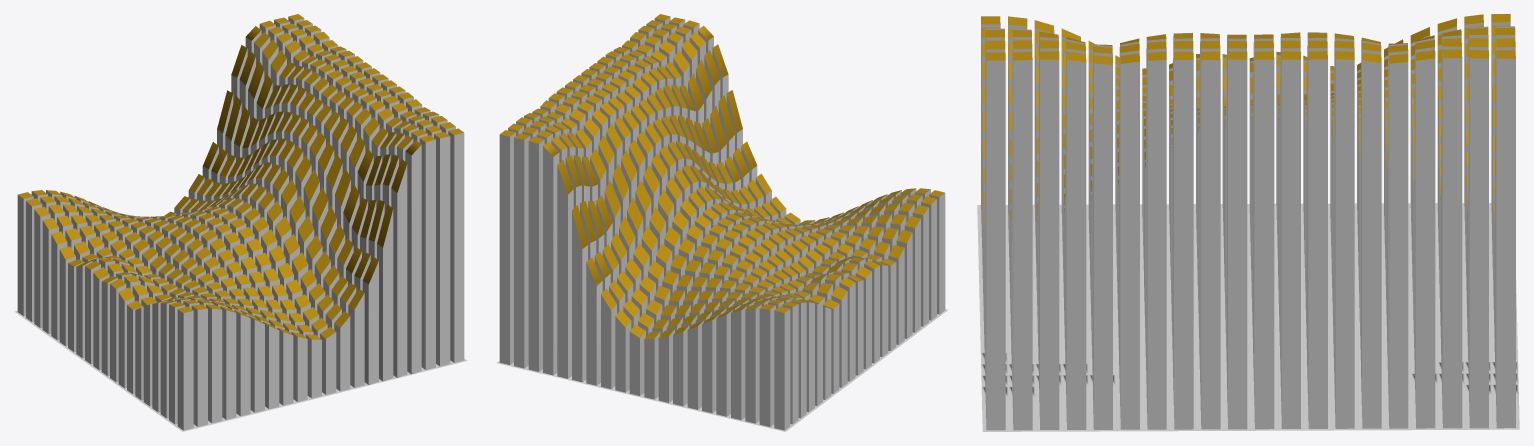
The model's file is HeatSink.fbx.
3 renders of one model, left to right at view 1: azimuth 30°, elevation 25°; view 2: azimuth 150°, elevation 25°; view 3: azimuth 270°, elevation 25°, orthographic. The views are drawn at different scales.
Visible parts, largest first — view 1: HeatSink; view 2: HeatSink; view 3: HeatSink.
Boxes of the visible parts, <box> form: HeatSink: <box>14,14,467,431</box>; HeatSink: <box>497,14,947,431</box>; HeatSink: <box>977,14,1519,431</box>.
Size of the model in its own units: 7.67 by 5.78 by 7.67.
